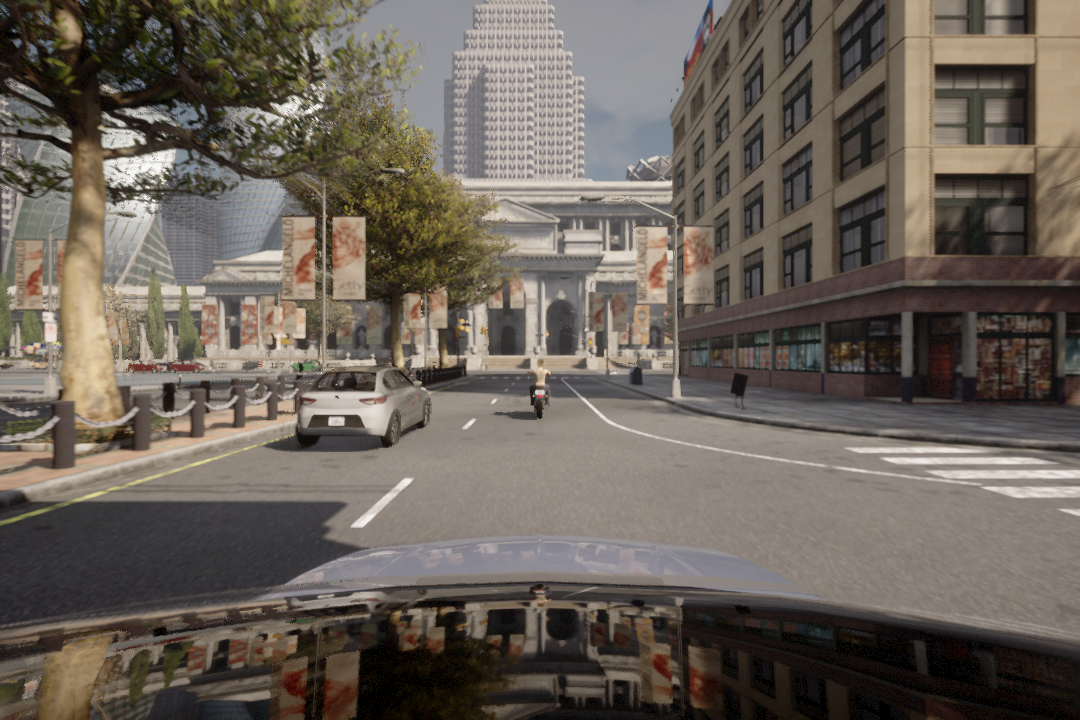walkside: (849, 439, 1080, 517)
